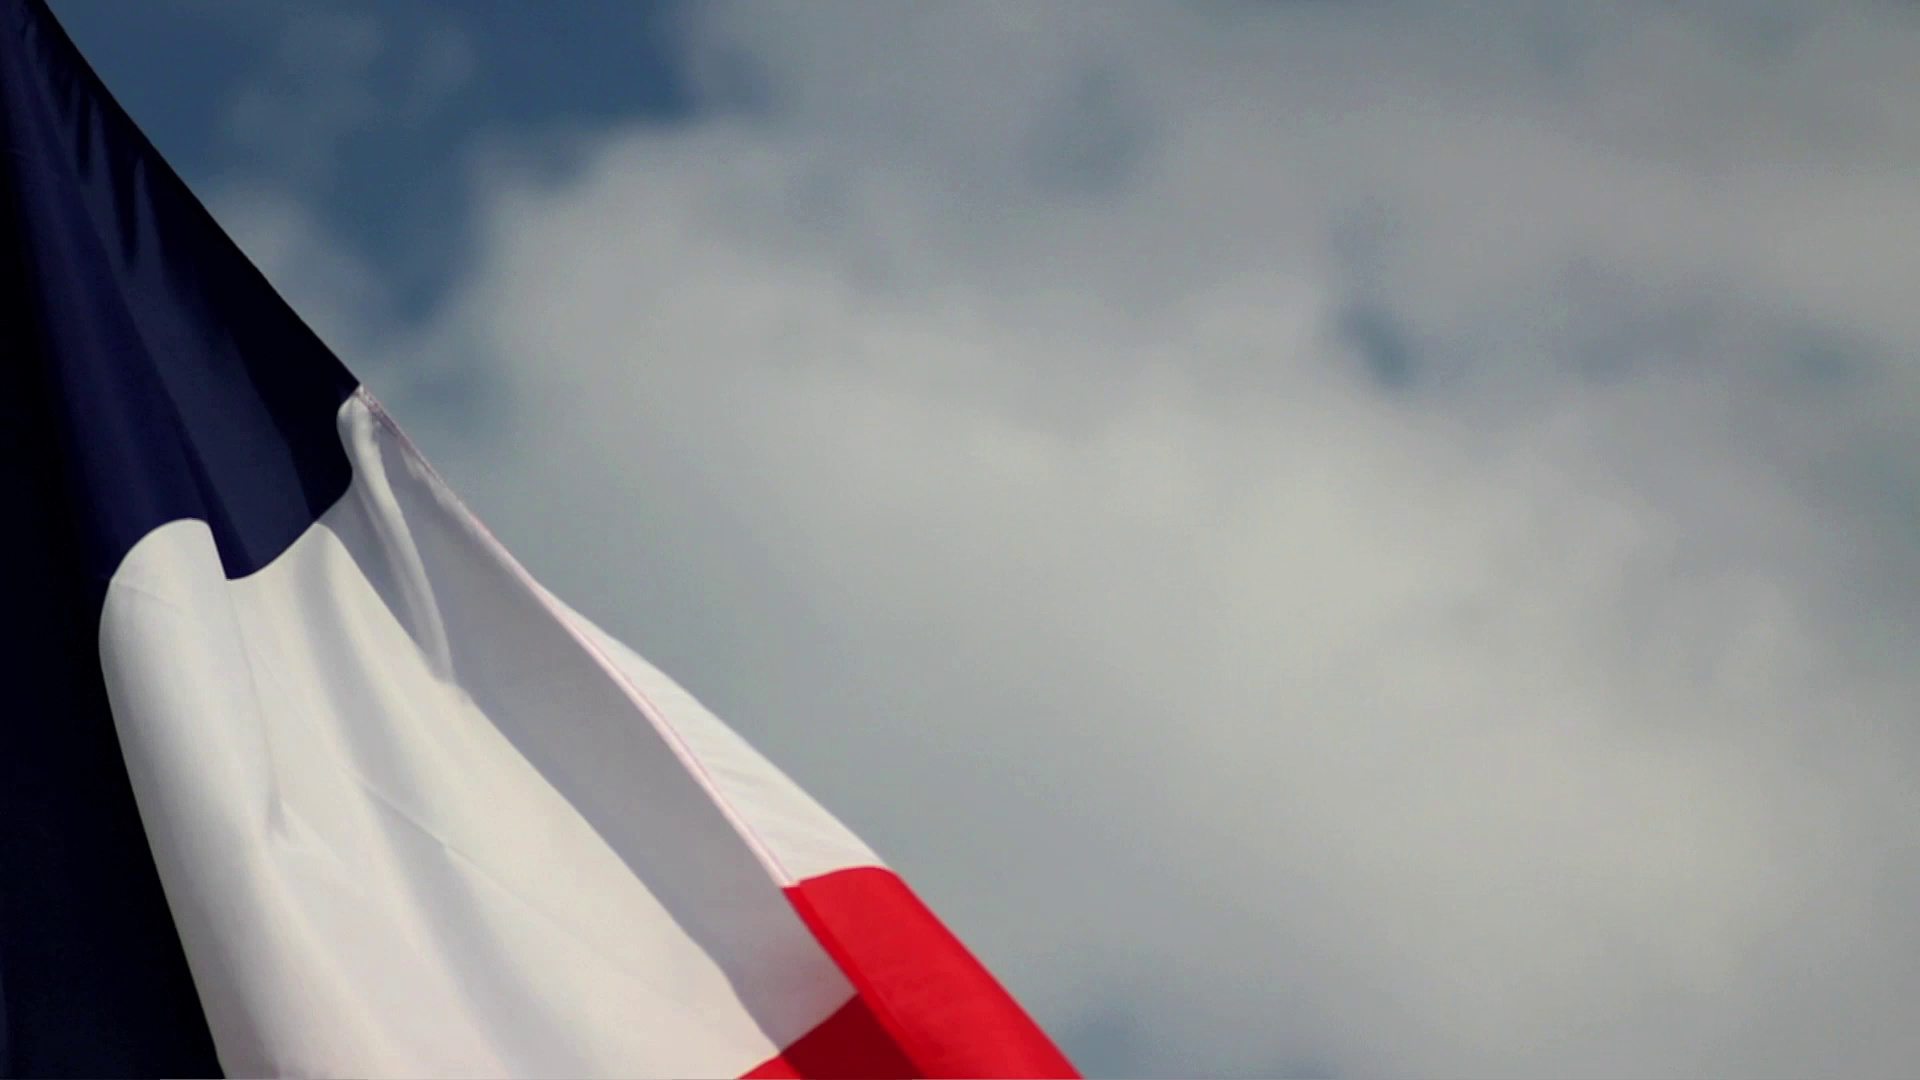French Flag: (1, 1, 1098, 1080)
